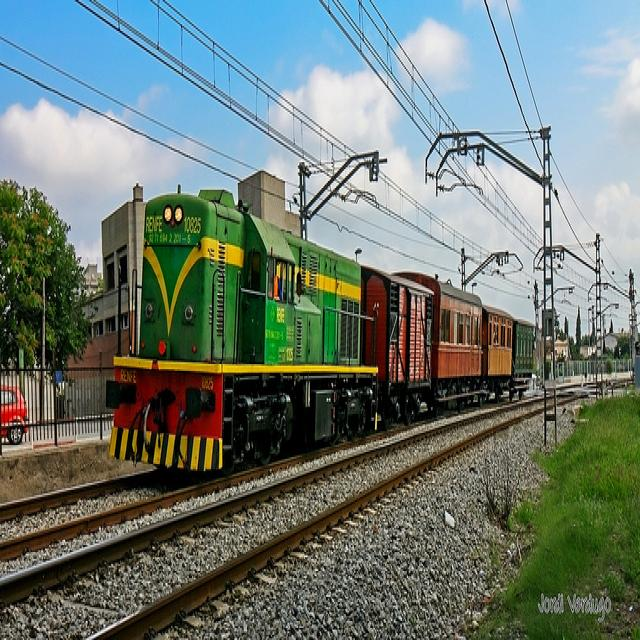Vehicle: (1, 386, 29, 444)
